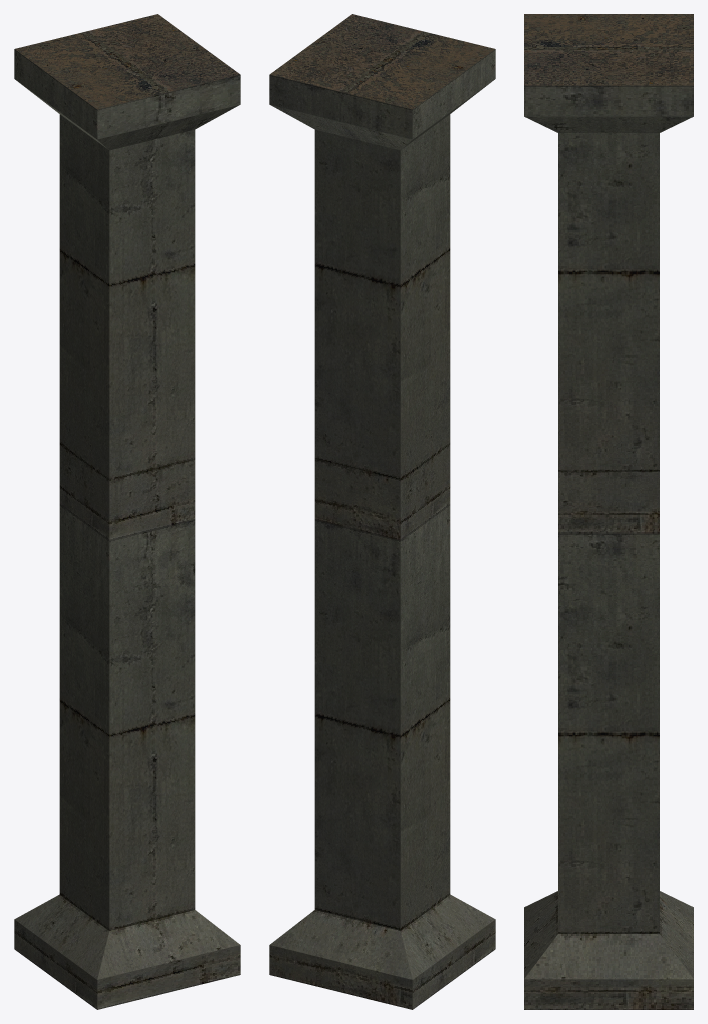
File: pillar_rg_10.glb
3 renders of one model, left to right at view 1: azimuth 30°, elevation 25°; view 2: azimuth 150°, elevation 25°; view 3: azimuth 270°, elevation 25°, orthographic. The views are drawn at different scales.
Visible parts, largest first — view 1: pillar_rg_10; view 2: pillar_rg_10; view 3: pillar_rg_10.
Boxes of the visible parts, x1=… form: pillar_rg_10: x1=14, y1=14, x2=240, y2=1009; pillar_rg_10: x1=269, y1=14, x2=495, y2=1009; pillar_rg_10: x1=524, y1=14, x2=693, y2=1009.
Bounding box in the file's own units: 1 × 6 × 1.
Materials: 2 (2 with a texture image).
